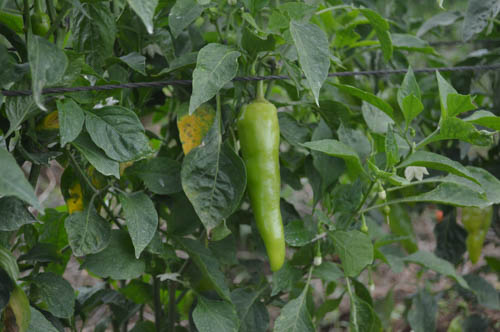ChiliPepper: (237, 102, 289, 275)
